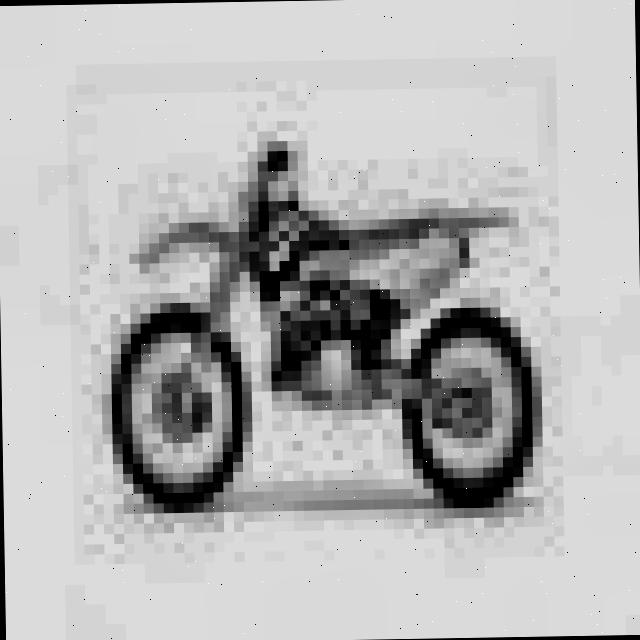mopeds: (78, 139, 541, 541)
